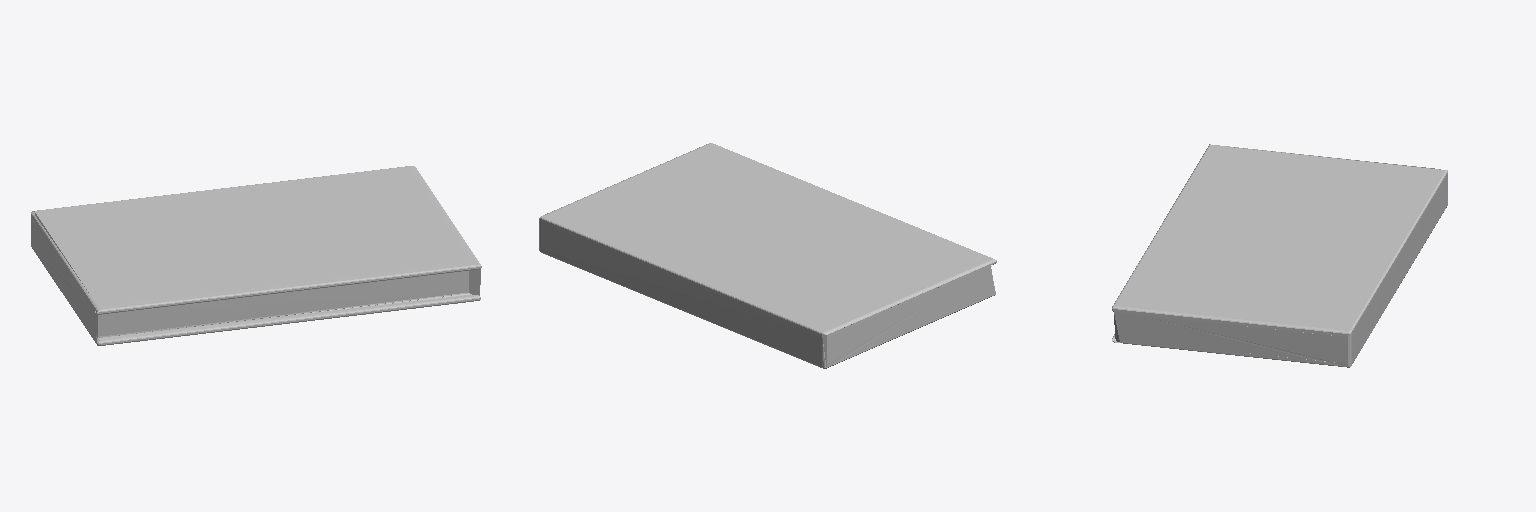
The model's file is Book1.obj.
The picture shows the model from 3 angles: view 1: azimuth 30°, elevation 25°; view 2: azimuth 150°, elevation 25°; view 3: azimuth 270°, elevation 25°; orthographic projection.
Parts seen in each view (by area): view 1: Plane_Plane.001; view 2: Plane_Plane.001; view 3: Plane_Plane.001.
Part boxes in pixels (x1,y1,x2,y2): Plane_Plane.001: (31, 166, 481, 345); Plane_Plane.001: (539, 143, 996, 368); Plane_Plane.001: (1112, 144, 1447, 367).
Bounding box in the file's own units: 15.7 × 1.4 × 11.78.